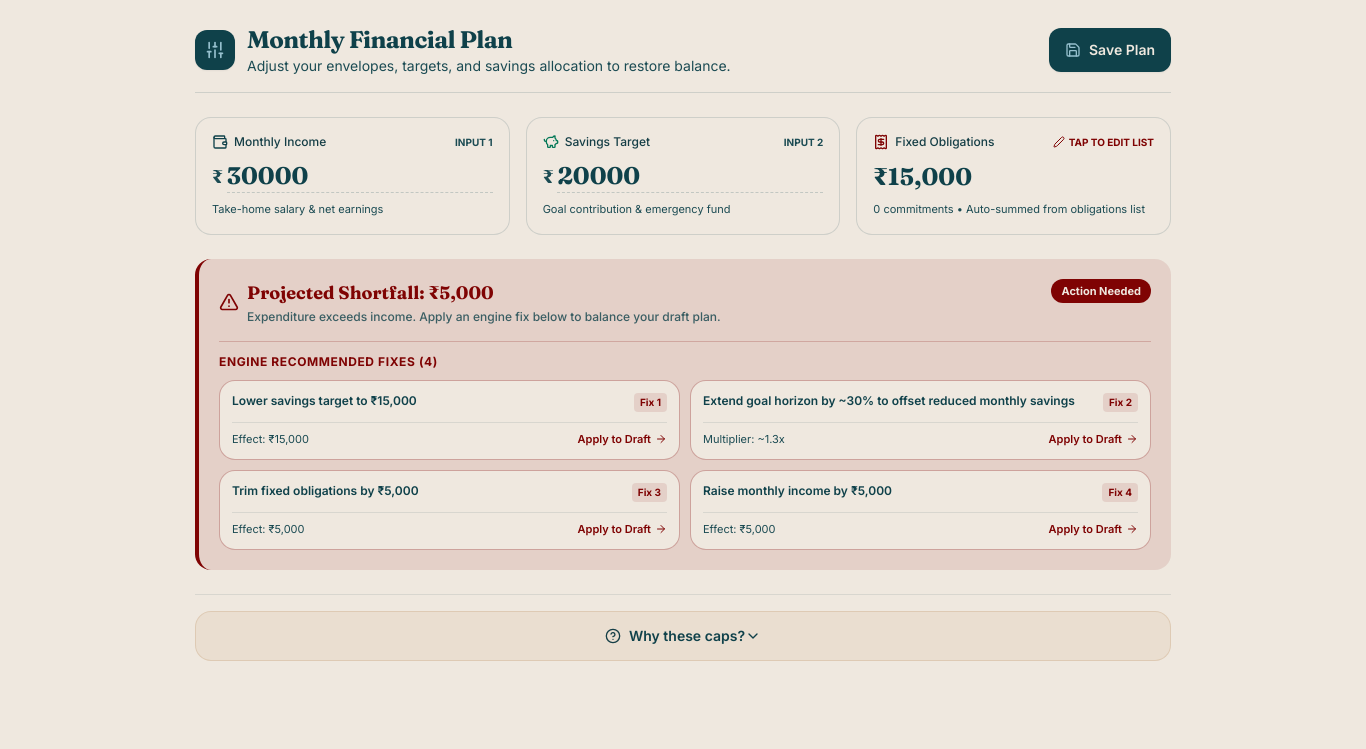
Test: PLAN SCREEN ACCEPTANCE TEST SUITE ("Earn 50k, save 20k") › Shortfall scenario (30,000 / 20,000 / 15,000) shows 5,000 shortfall + 4 fixes in maroon
Expected: the message is shown, [195,258,1171,570]
Expected: the heading "Projected Shortfall: ₹5,000" is shown, [247,280,494,304]
// Tapping Fix 1 (Lower savings target) applies it to the draft
Click the button with aria-label "Apply Fix" at (450, 420), box [219,380,680,460]
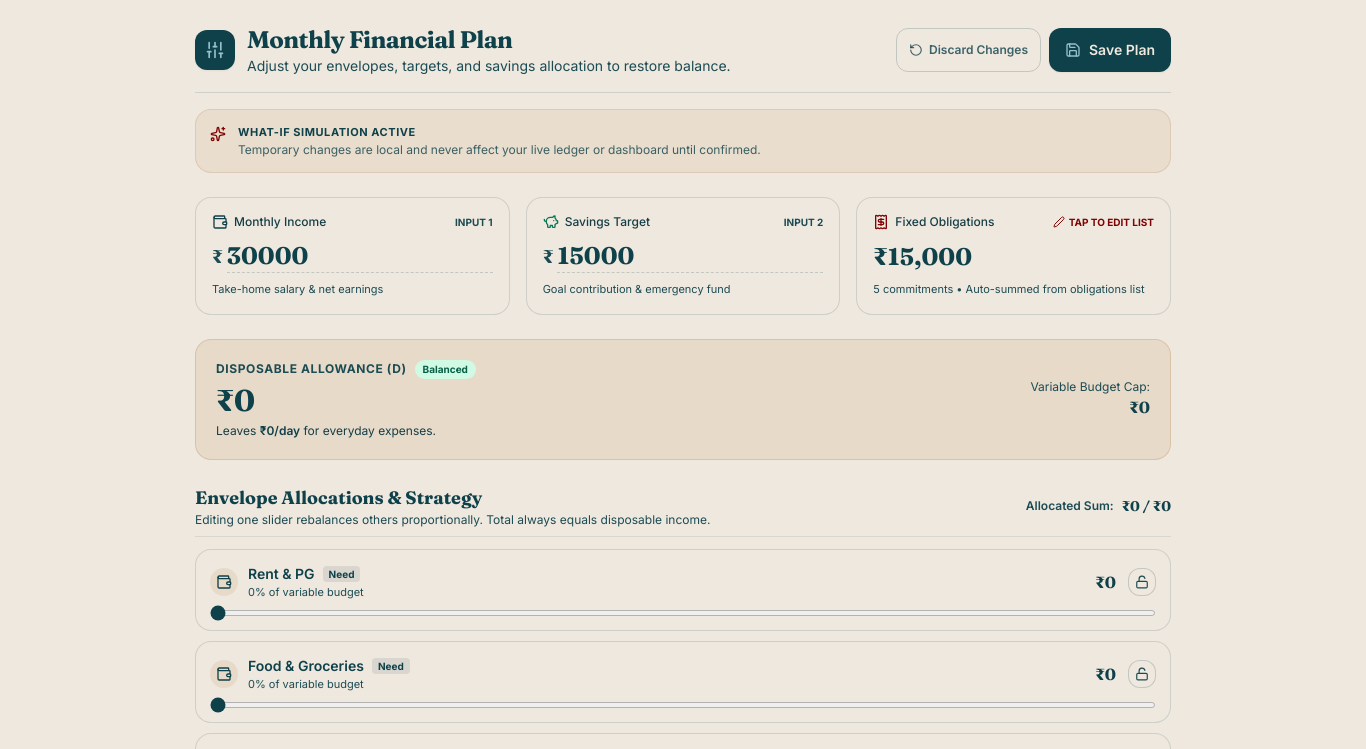
Expected: the number field named "Savings Target" holds "15000", [557,240,823,273]
Expected: the text "Balanced" is shown, [415,360,476,378]
